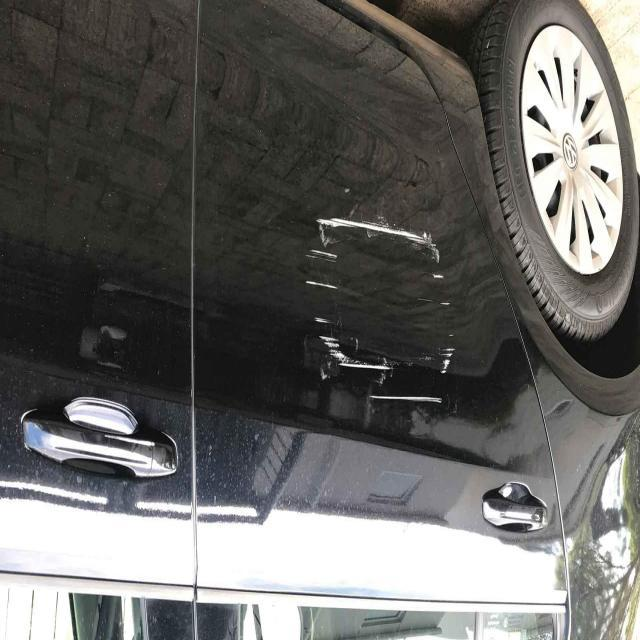scratch: (308, 201, 450, 296), (310, 310, 398, 377), (434, 293, 466, 387), (363, 389, 451, 409)
